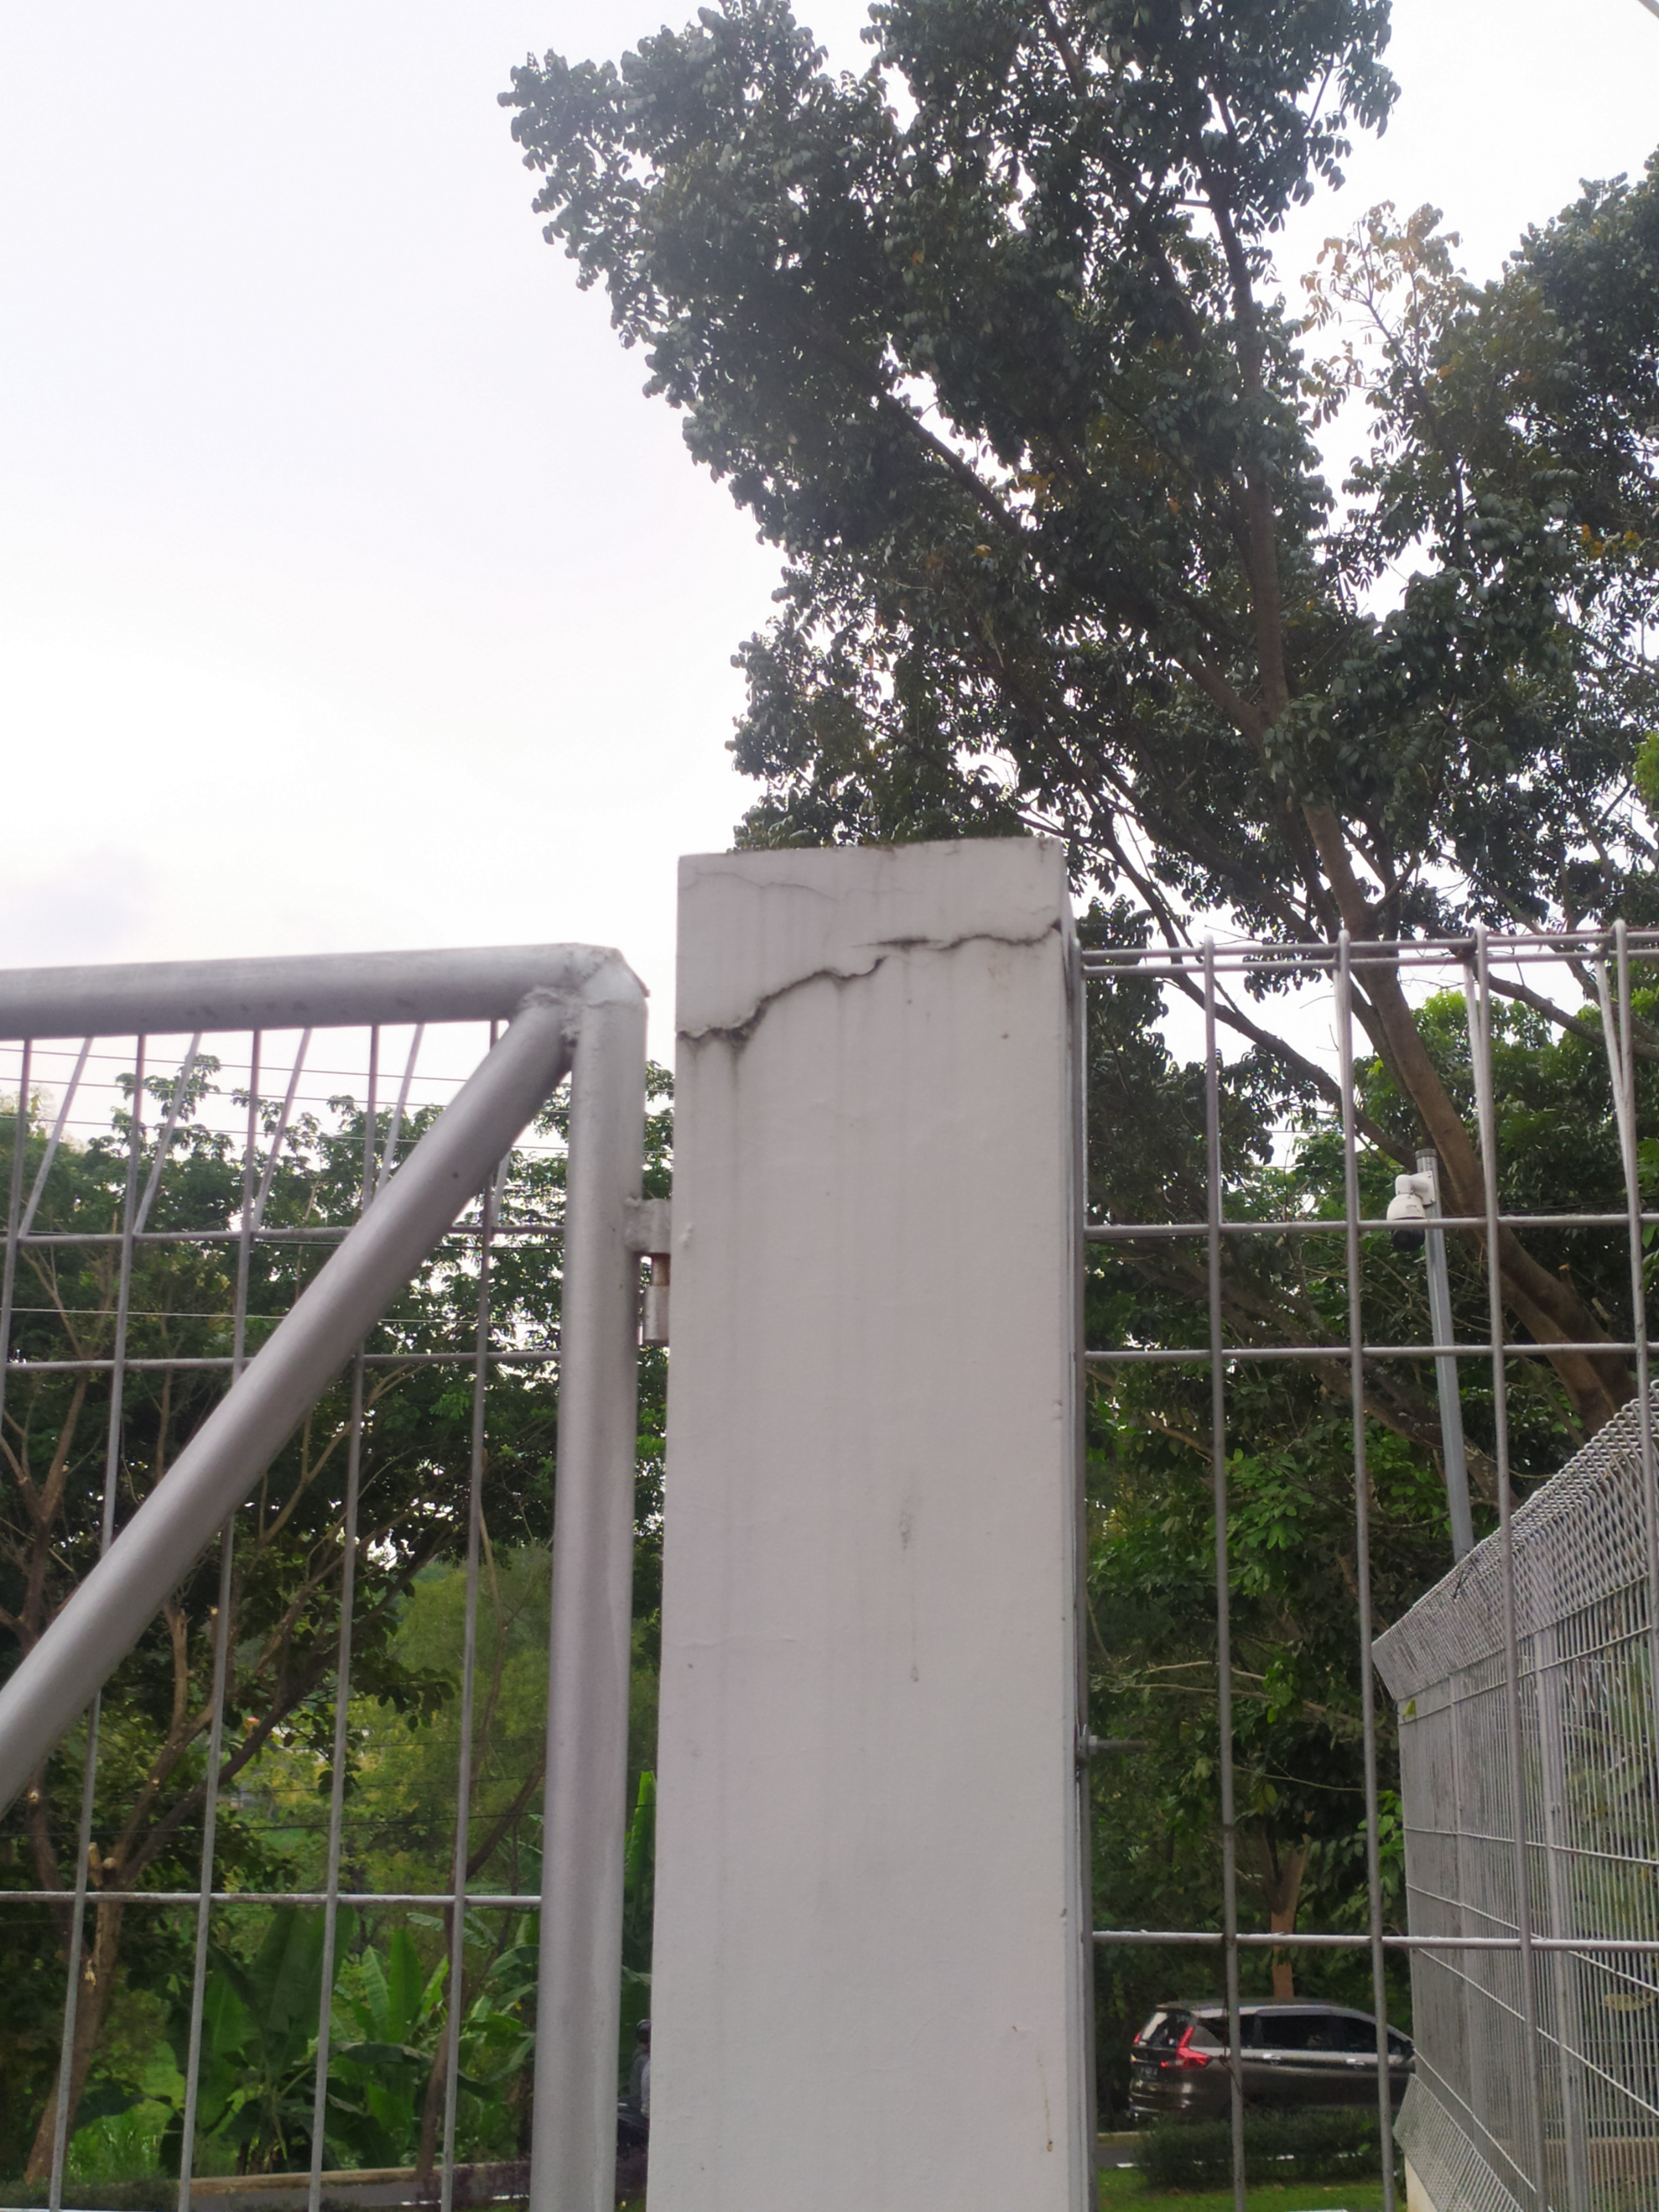crack: (676, 913, 1065, 1054)
